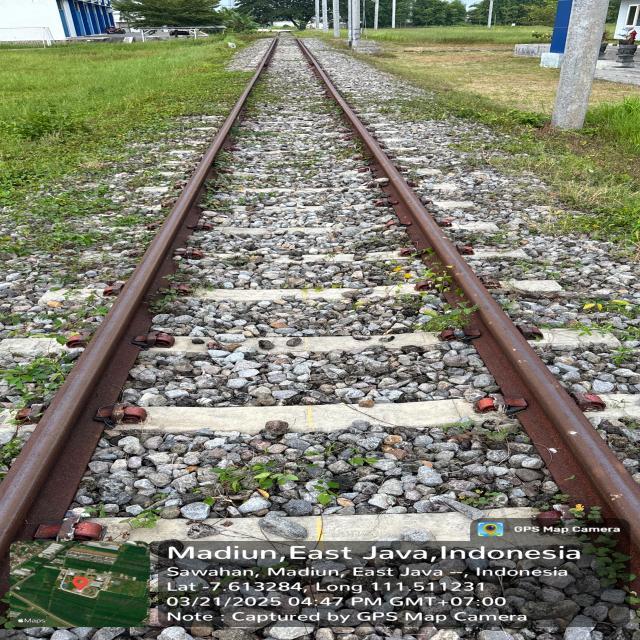rail-detection: (312, 60, 640, 547), (0, 61, 264, 566)
